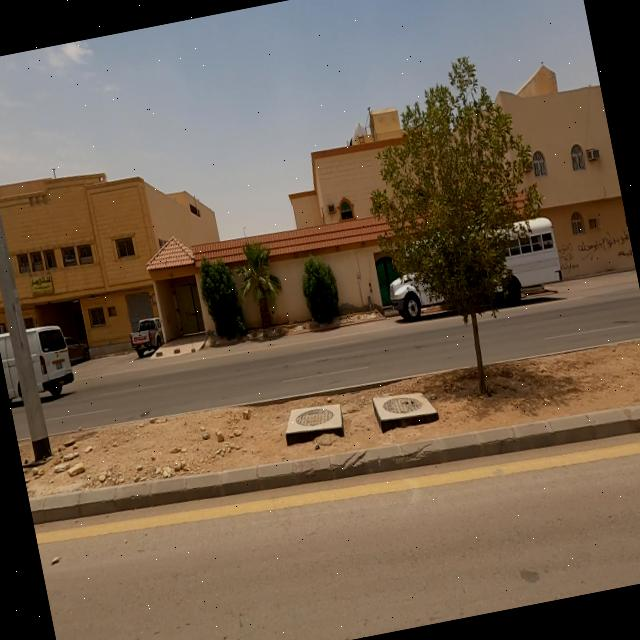Graffiti: (557, 229, 636, 276)
